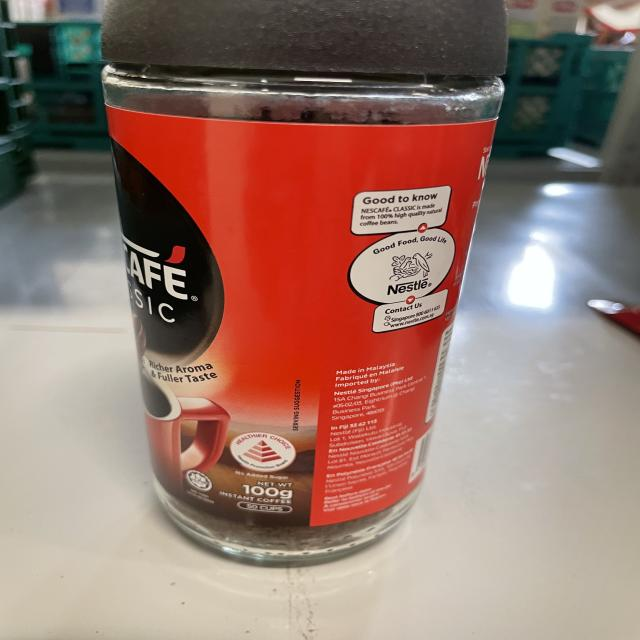object_name: (107, 4, 489, 562)
